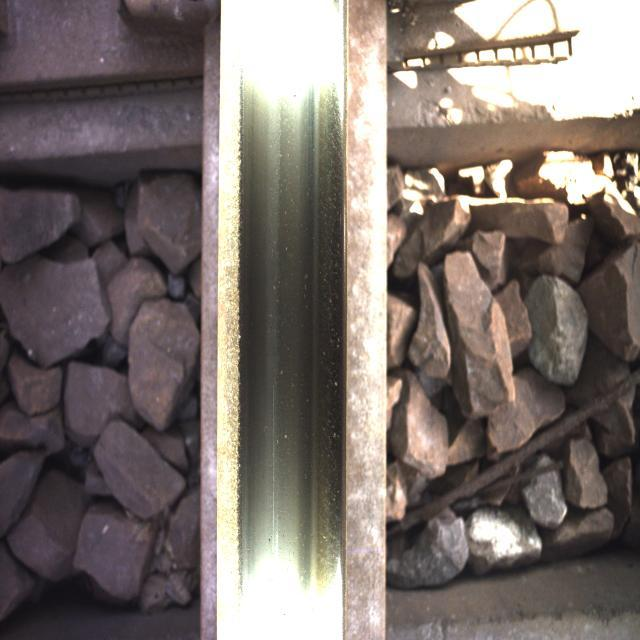break: (244, 92, 338, 590)
